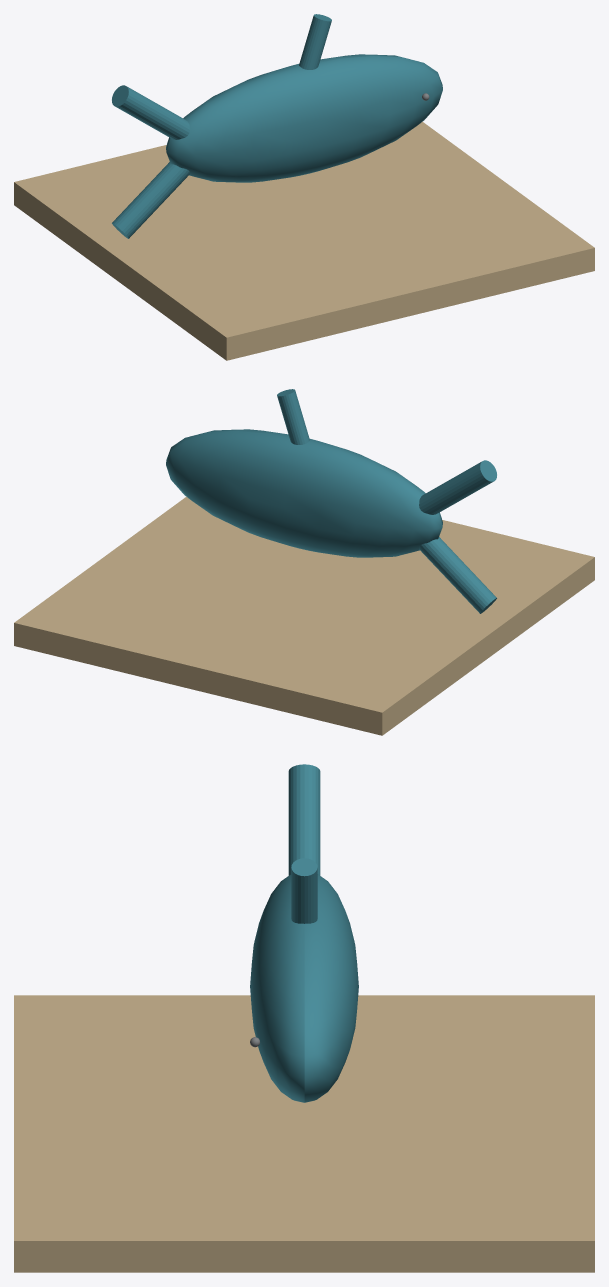
The model's file is peixe.glb.
The picture shows the model from 3 angles, top to bottom: view 1: azimuth 30°, elevation 25°; view 2: azimuth 150°, elevation 25°; view 3: azimuth 270°, elevation 25°; orthographic projection. The views are drawn at different scales.
Parts seen in each view (by area): view 1: Base ilustrativa, Corpo genérico, Barbatana caudal, Barbatana caudal.001, Barbatana dorsal; view 2: Base ilustrativa, Corpo genérico, Barbatana caudal, Barbatana caudal.001, Barbatana dorsal; view 3: Base ilustrativa, Corpo genérico, Barbatana caudal.001, Barbatana dorsal.
Boxes of the visible parts, x1=… form: Base ilustrativa: x1=14, y1=122, x2=594, y2=360; Corpo genérico: x1=166, y1=54, x2=442, y2=182; Barbatana caudal: x1=112, y1=162, x2=189, y2=238; Barbatana caudal.001: x1=112, y1=85, x2=189, y2=139; Barbatana dorsal: x1=299, y1=14, x2=331, y2=69; Base ilustrativa: x1=14, y1=497, x2=594, y2=735; Corpo genérico: x1=166, y1=429, x2=442, y2=557; Barbatana caudal: x1=419, y1=537, x2=496, y2=613; Barbatana caudal.001: x1=419, y1=460, x2=496, y2=514; Barbatana dorsal: x1=277, y1=389, x2=309, y2=444; Base ilustrativa: x1=14, y1=995, x2=594, y2=1272; Corpo genérico: x1=250, y1=874, x2=358, y2=1102; Barbatana caudal.001: x1=288, y1=764, x2=320, y2=875; Barbatana dorsal: x1=291, y1=858, x2=317, y2=923.
Size of the model in its own units: 4.07 by 2.27 by 4.
